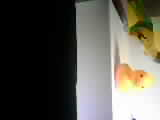duck: (111, 52, 152, 90)
